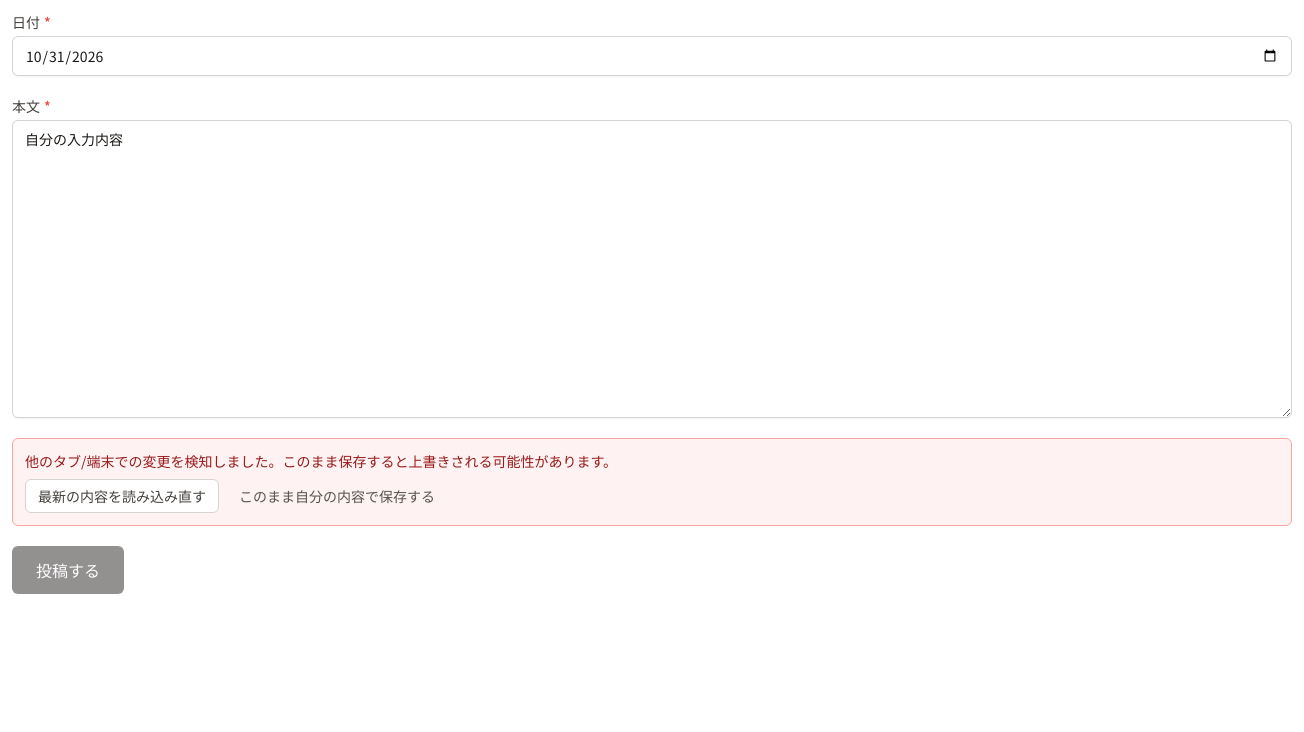
Test: EntryForm › 「最新の内容を読み込み直す」クリックで本文フィールドがreloadFromServerの返り値に置き換わる
The image size is (1304, 732).
Click the button "最新の内容を読み込み直す": (122, 496) [25, 479, 219, 513]
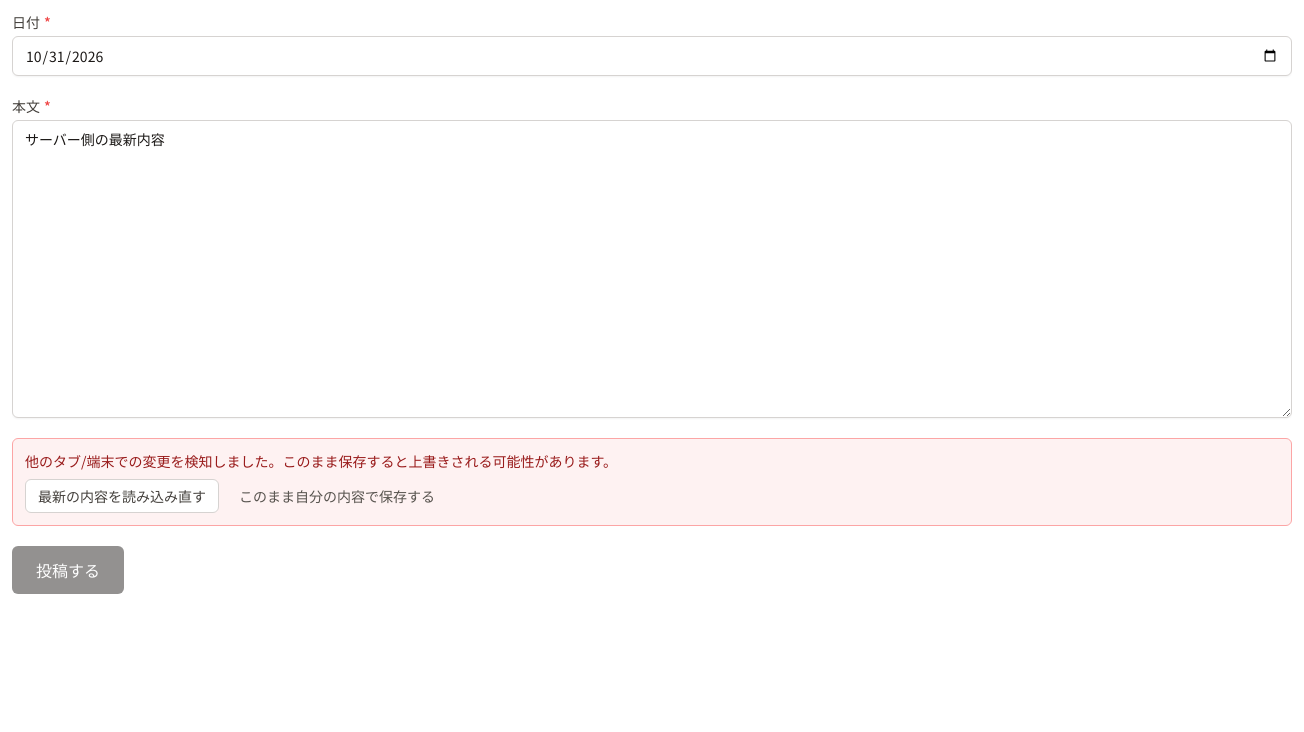
Expected: the text box labelled "本文*" holds "サーバー側の最新内容", [12, 120, 1292, 418]
